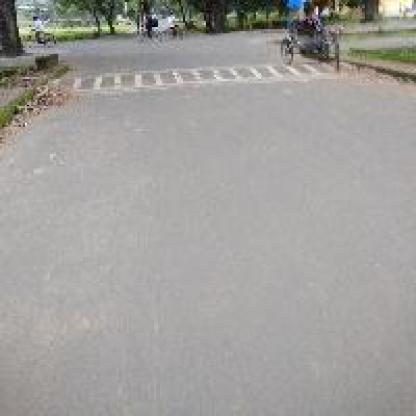Speed Bump: (60, 58, 279, 96)
